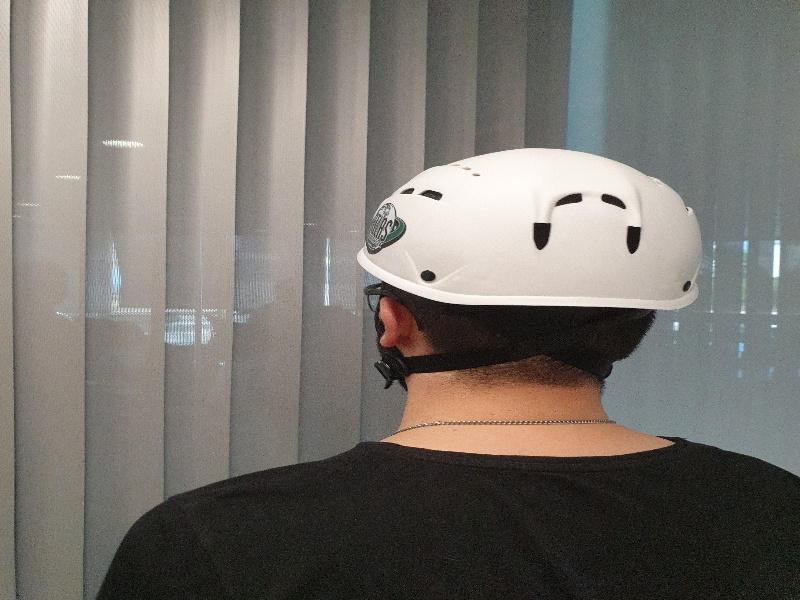Baret: (356, 148, 703, 317)
